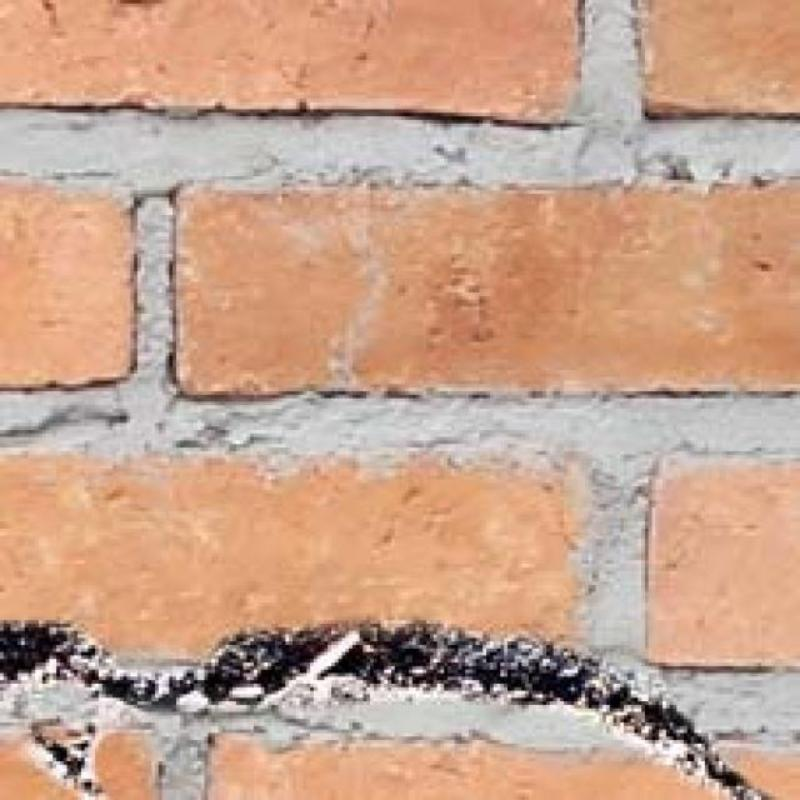pothole: (0, 622, 750, 799), (26, 721, 97, 792)
